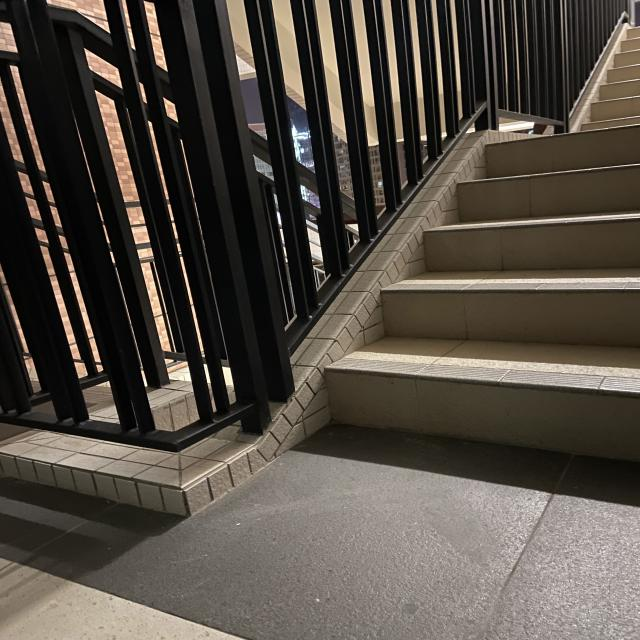Stairs: (280, 132, 640, 497)
